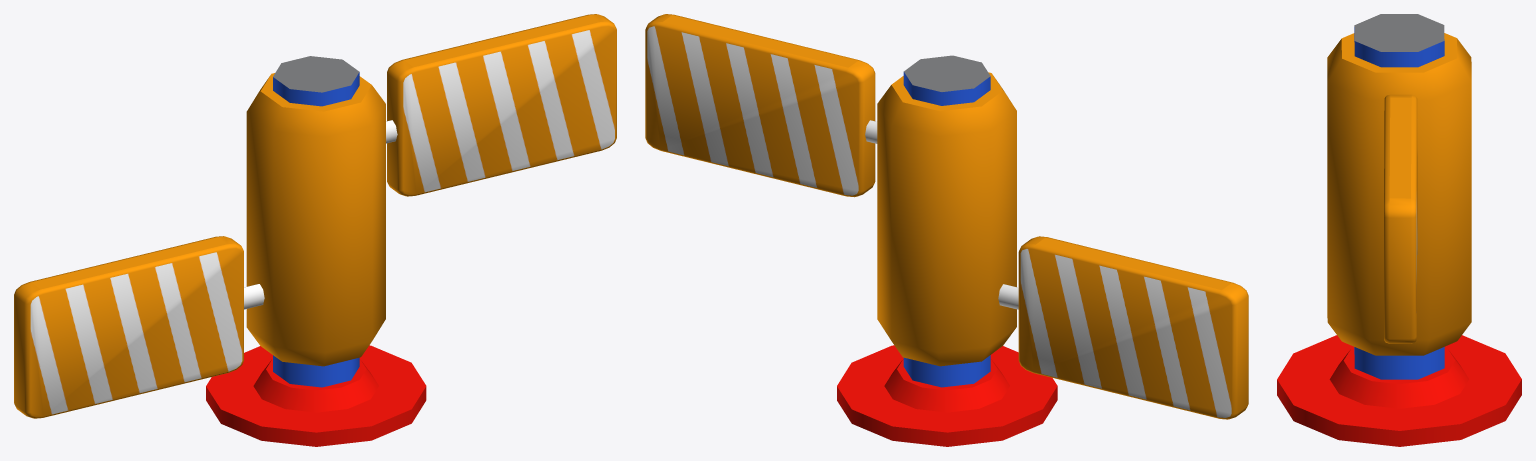
Rendered from obs1.fbx.
3 views of the same model, side by side, from view 1: azimuth 30°, elevation 25°; view 2: azimuth 150°, elevation 25°; view 3: azimuth 270°, elevation 25° (orthographic). The views are drawn at different scales.
Parts seen in each view (by area): view 1: spinning obstacle; view 2: spinning obstacle; view 3: spinning obstacle.
Boxes of the visible parts, bbox=[...] form: spinning obstacle: bbox=[14, 14, 616, 446]; spinning obstacle: bbox=[645, 14, 1248, 446]; spinning obstacle: bbox=[1277, 14, 1521, 446].
Size of the model in its own units: 7.23 by 3.81 by 2.33.
Materials: 1 (1 with a texture image).
